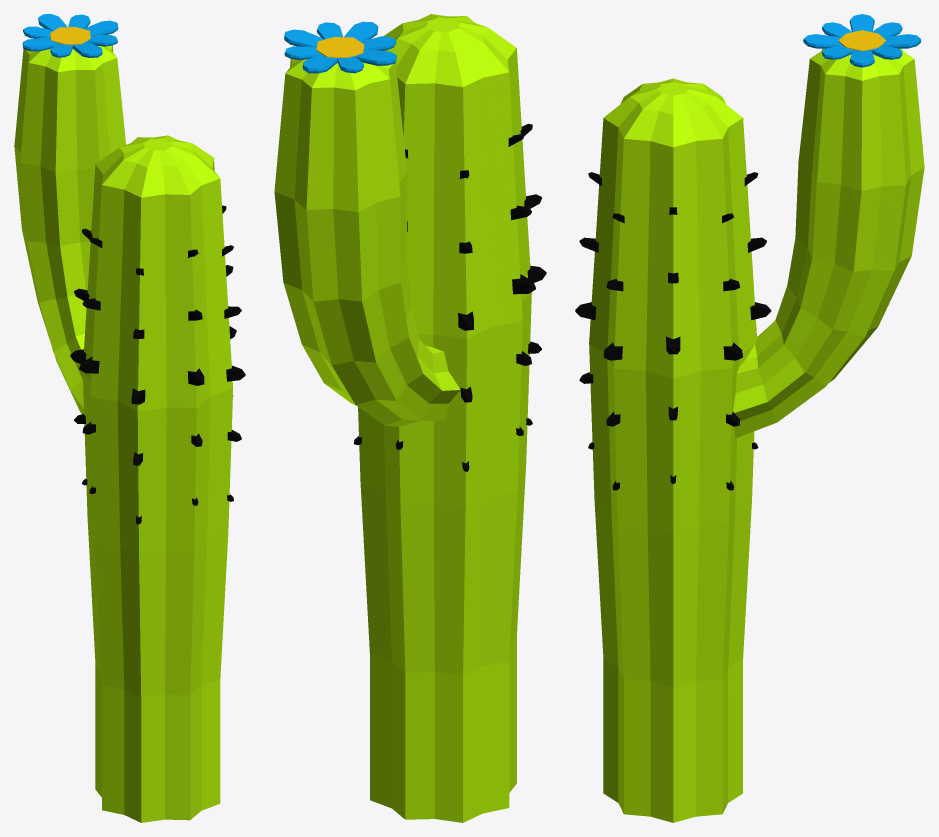
File: Cardon03_01Brazo_Flor_Azul.fbx
3 renders of one model, left to right at view 1: azimuth 30°, elevation 25°; view 2: azimuth 150°, elevation 25°; view 3: azimuth 270°, elevation 25°, orthographic. The views are drawn at different scales.
Visible parts, largest first — view 1: Cactus_Cuerpo, Espinas, Flor_Azul; view 2: Cactus_Cuerpo, Flor_Azul, Espinas; view 3: Cactus_Cuerpo, Flor_Azul, Espinas.
Part boxes in pixels (left/top/right/bottom): Cactus_Cuerpo: left=14, top=45, right=233, bottom=822; Espinas: left=70, top=205, right=245, bottom=524; Flor_Azul: left=22, top=14, right=118, bottom=57; Cactus_Cuerpo: left=274, top=14, right=531, bottom=822; Flor_Azul: left=284, top=21, right=396, bottom=73; Espinas: left=354, top=123, right=546, bottom=471; Cactus_Cuerpo: left=589, top=48, right=924, bottom=822; Flor_Azul: left=803, top=14, right=921, bottom=67; Espinas: left=575, top=172, right=771, bottom=490.
Bounding box in the file's own units: 53.18 × 226 × 94.85.
